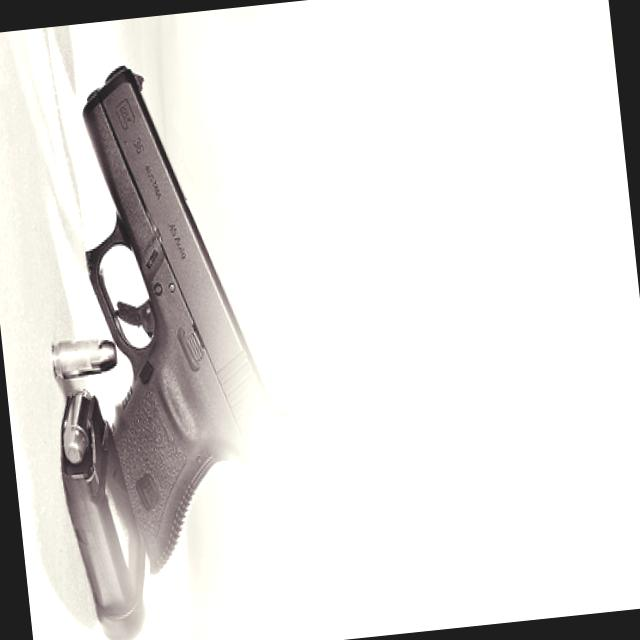handgun: (62, 23, 304, 578)
